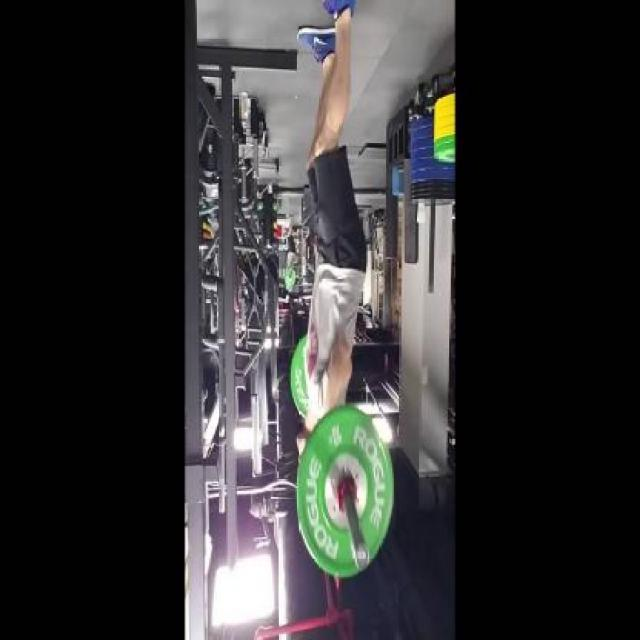Barbell: (352, 538, 371, 574)
